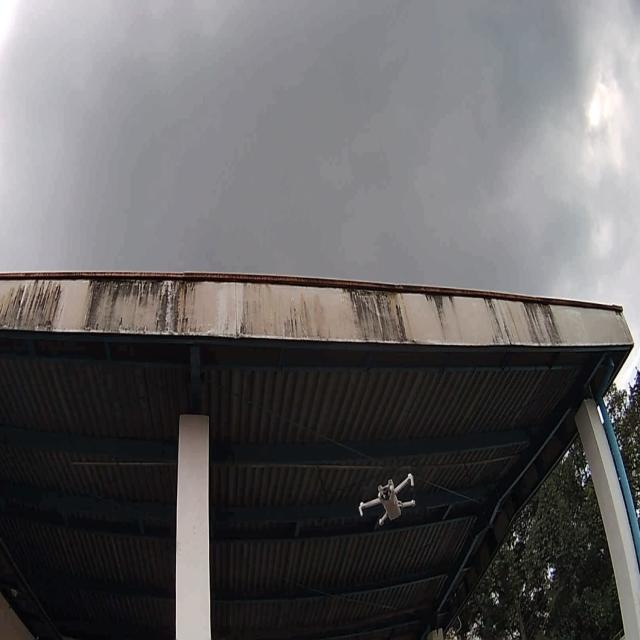drone: (358, 472, 416, 527)
